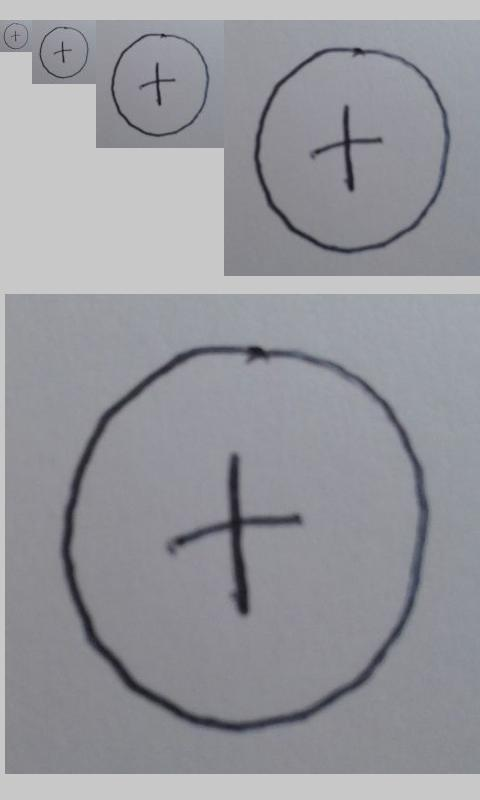button: (61, 340, 433, 734), (253, 46, 451, 255), (110, 33, 211, 138), (39, 26, 90, 79), (3, 22, 29, 50)
